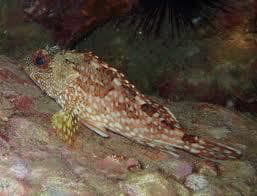kasago: (14, 35, 244, 166)
